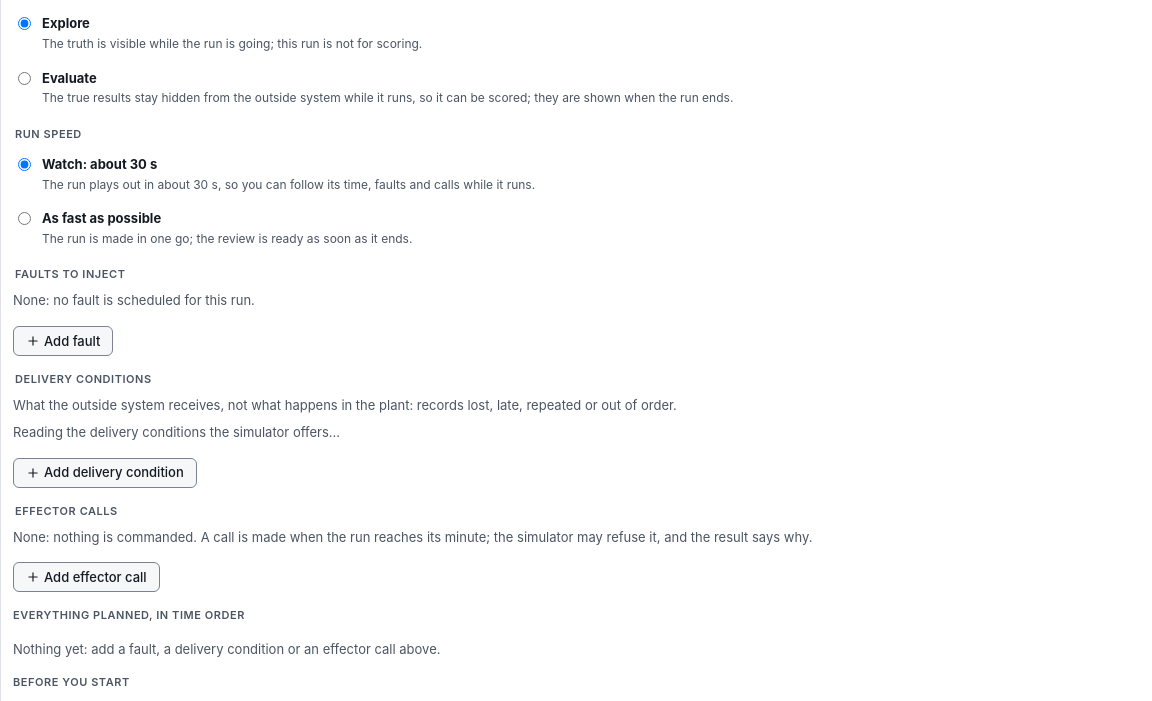
Test case: launch panel › names the missing fault after an instance is chosen and blocks the run
(page scrolled)
Click the button "Add fault".
click(63, 341)  # box x1=13 y1=326 x2=114 y2=356
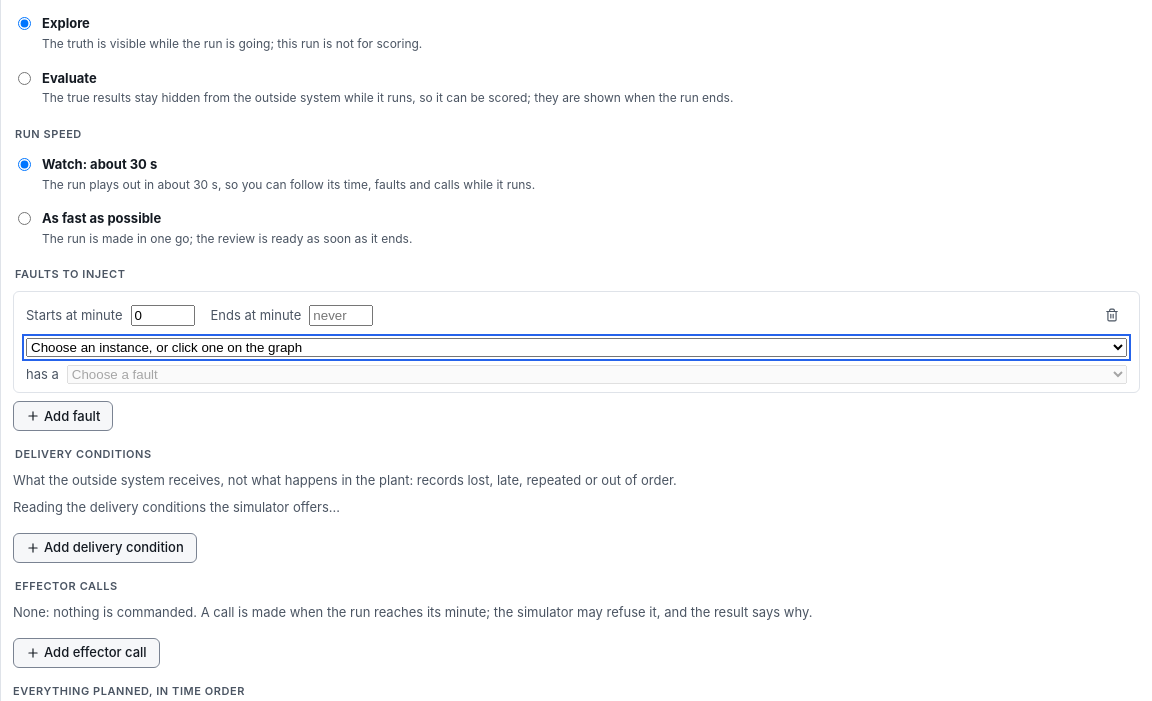
Select "CH-1 · chiller" in the dropdown named "Fault 1 instance" at (576, 348), box x1=26 y1=338 x2=1127 y2=357
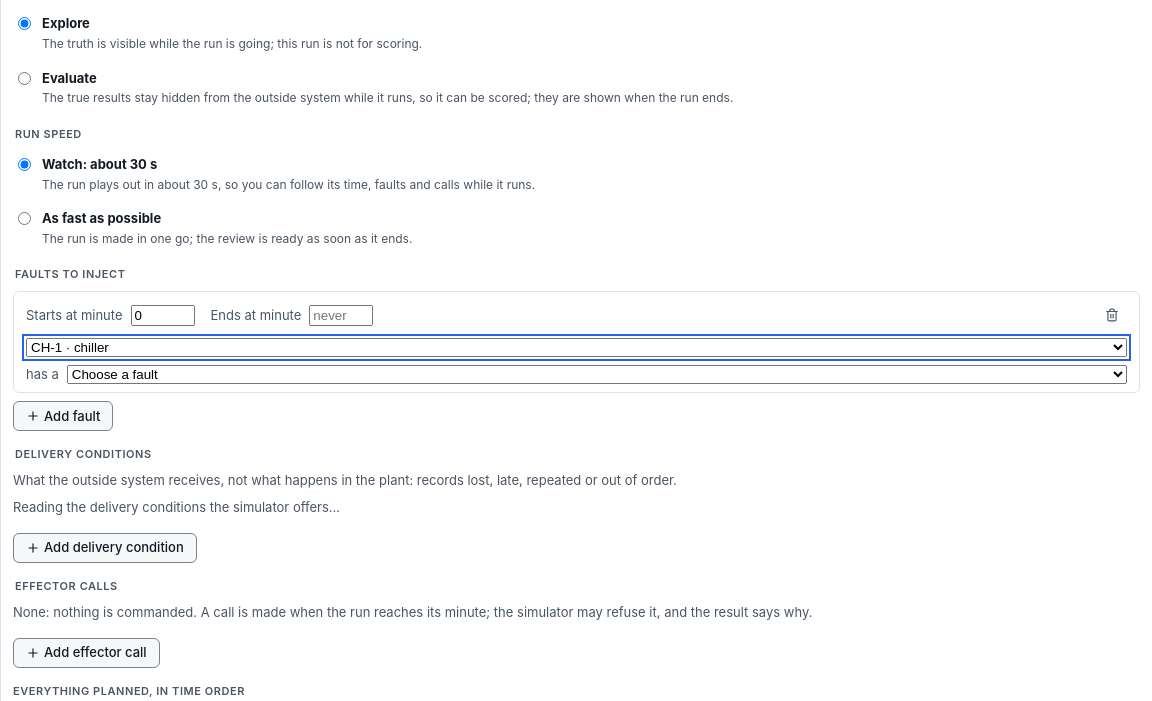
Expected: the text "needs attention before starting" is not shown
Click the radio button labelled "As fast as possible".
click(24, 218)  # box x1=18 y1=212 x2=31 y2=225
(page scrolled)
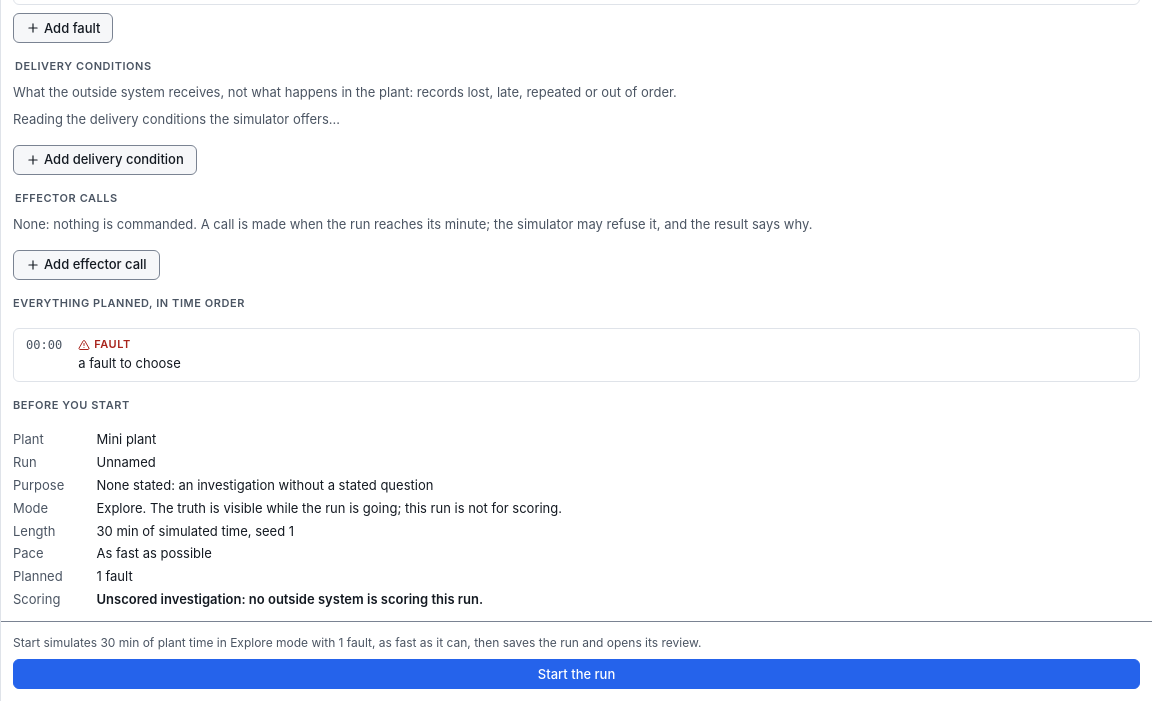
Click the button "Start the run".
click(576, 674)  # box x1=13 y1=659 x2=1140 y2=689
(page scrolled)
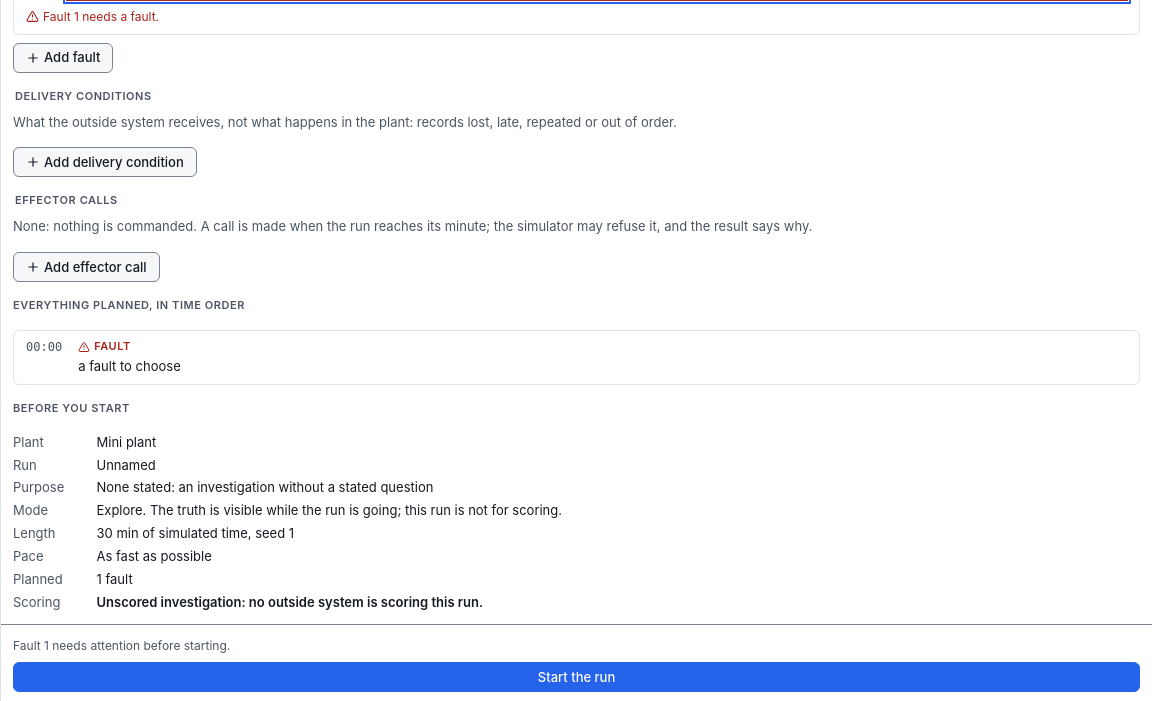
Expected: the text "Fault 1 needs attention before starting." is shown, x1=13 y1=638 x2=230 y2=652
